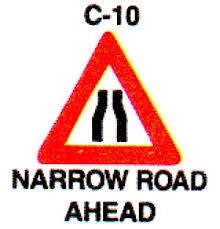Narrow_road: (32, 31, 185, 166)
